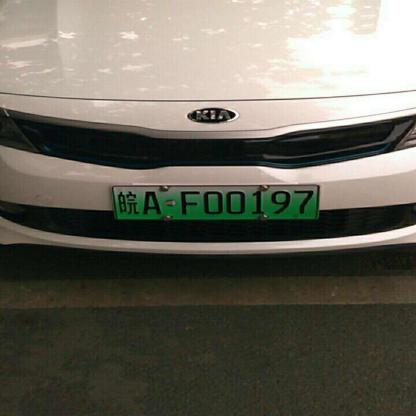lp: (112, 185, 317, 221)
